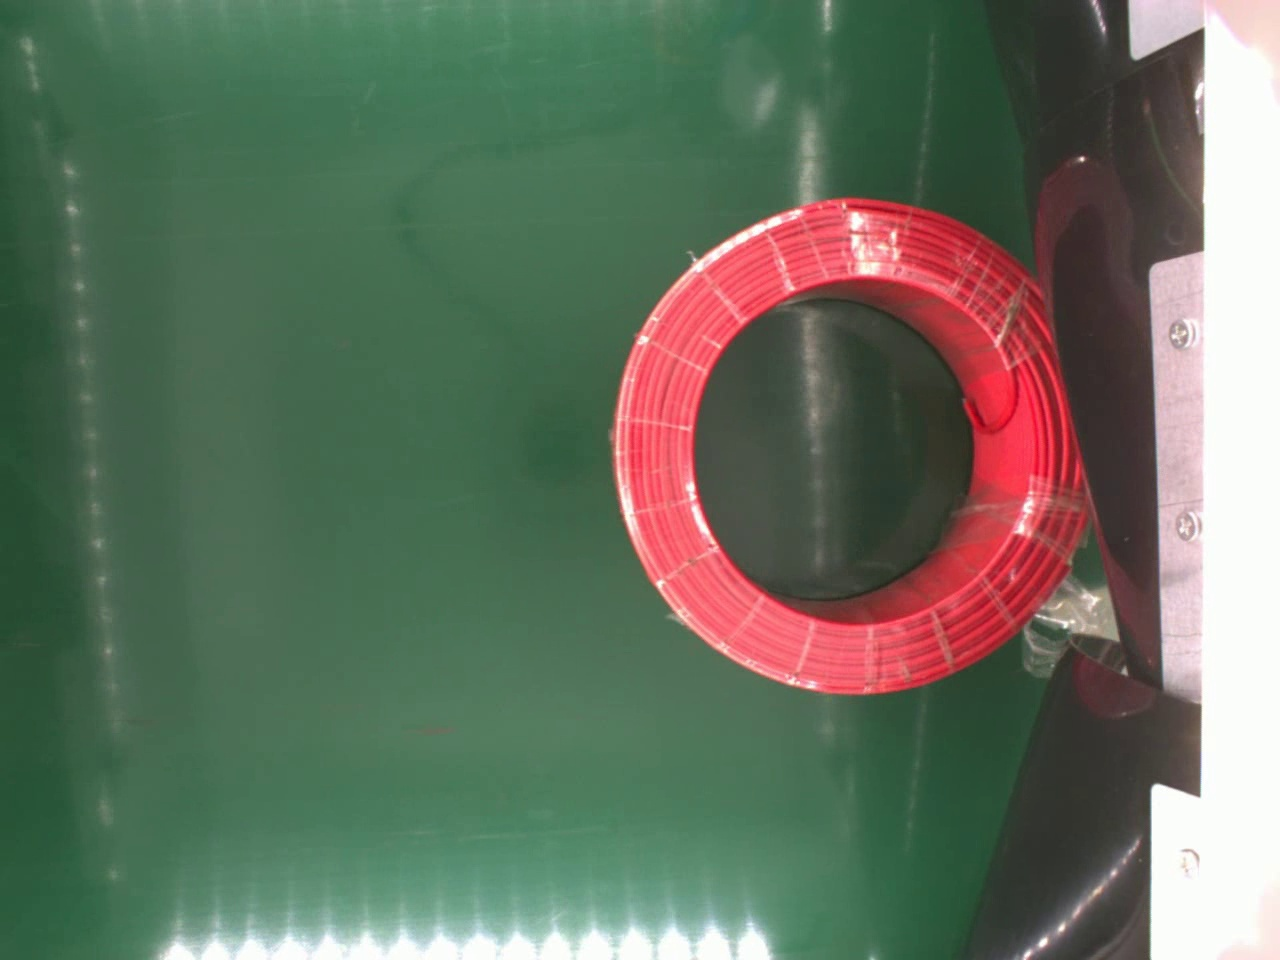red: (608, 192, 1089, 691)
